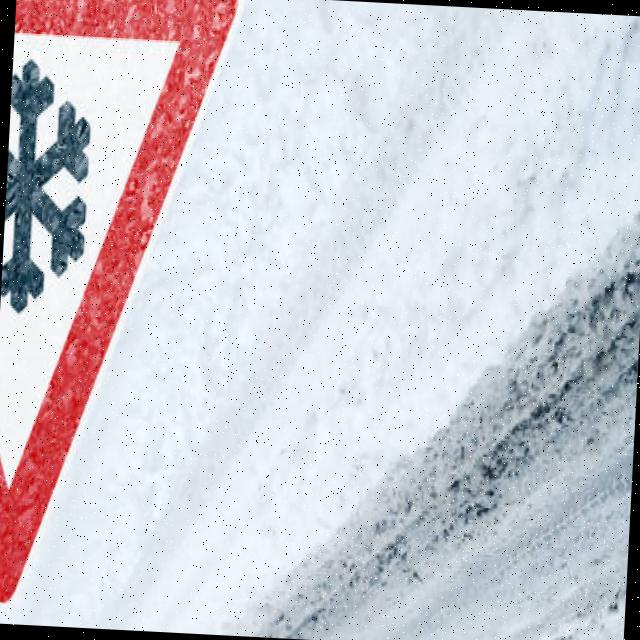snow_warning: (0, 0, 251, 635)
